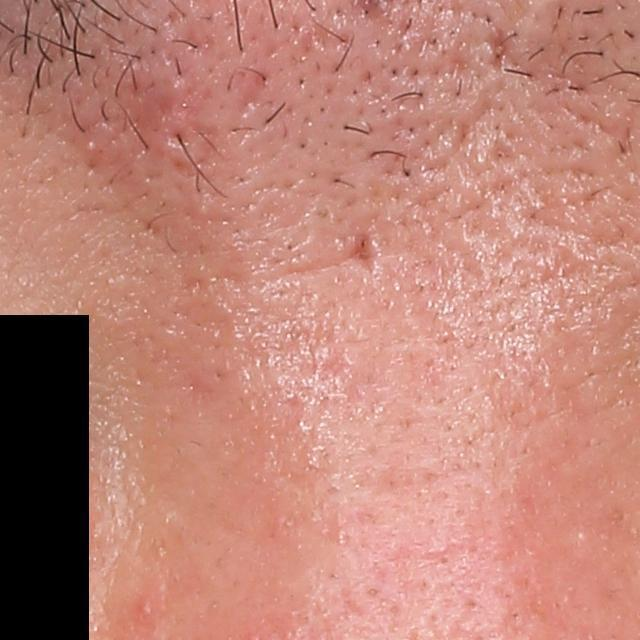atrophic_scar: (342, 226, 378, 284)
